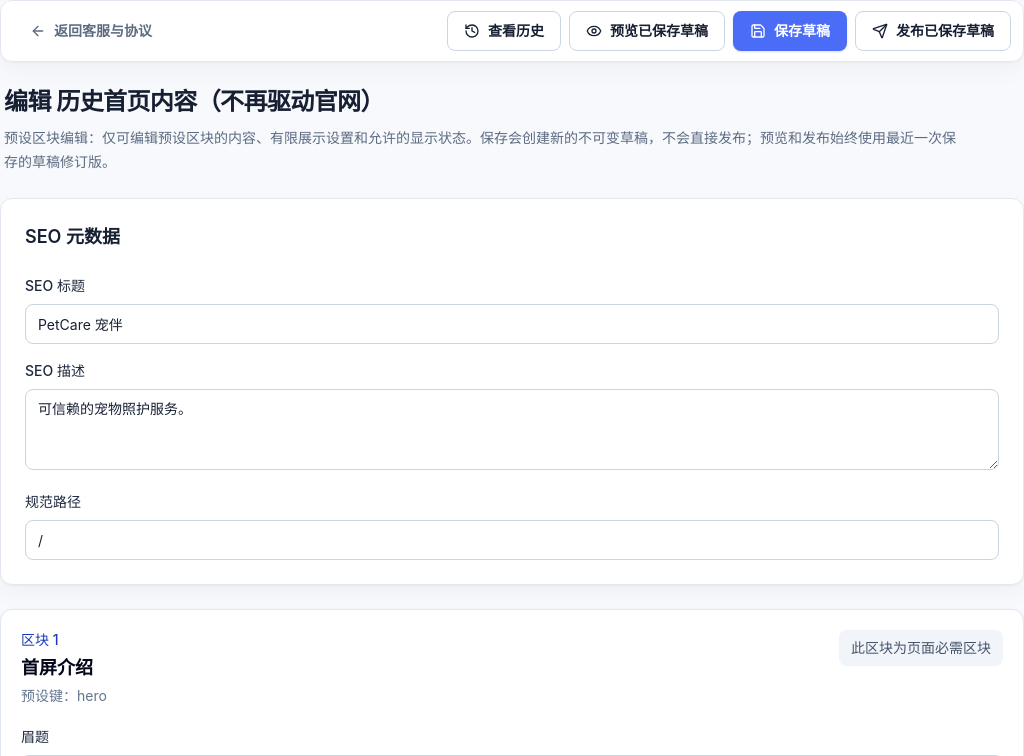
Test: WebsiteContentEdit › publishes a saved revision, reports its business version, and invalidates affected content queries
Click the button with aria-label "publish-saved-draft": {"x": 933, "y": 31} [855, 11, 1011, 51]
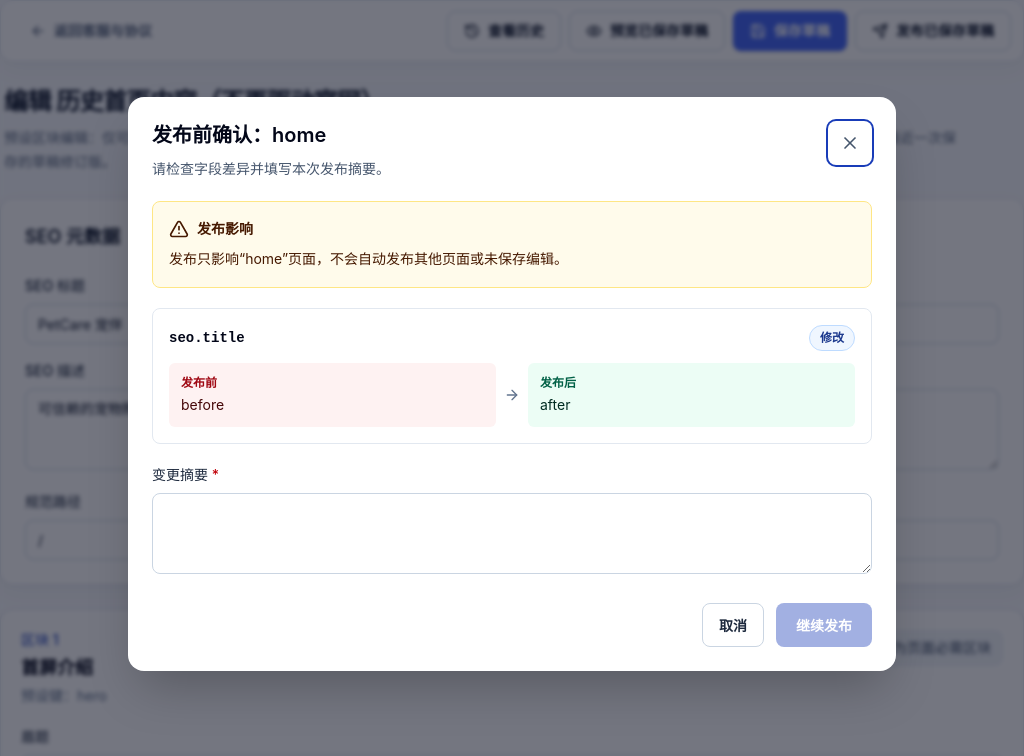
Expected: the text "before" is shown, [181, 396, 224, 413]
In the text box labelled "变更摘要": {"x": 512, "y": 534} [152, 493, 872, 574], type "发布首页更新"
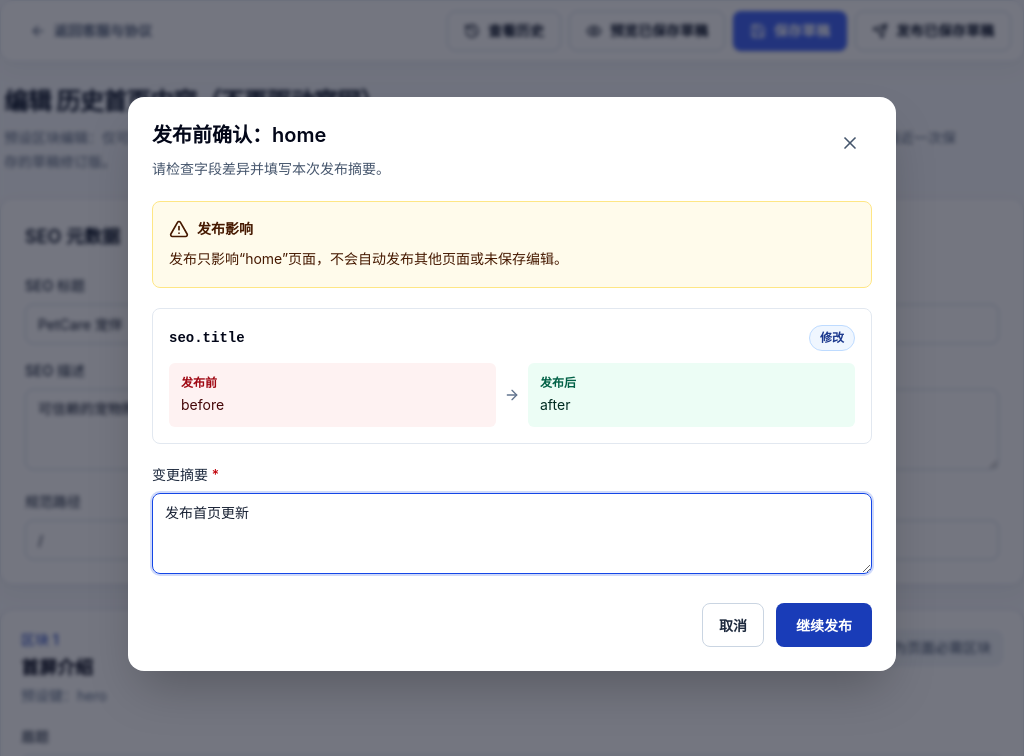
Click the button "继续发布": {"x": 824, "y": 625} [776, 603, 872, 647]
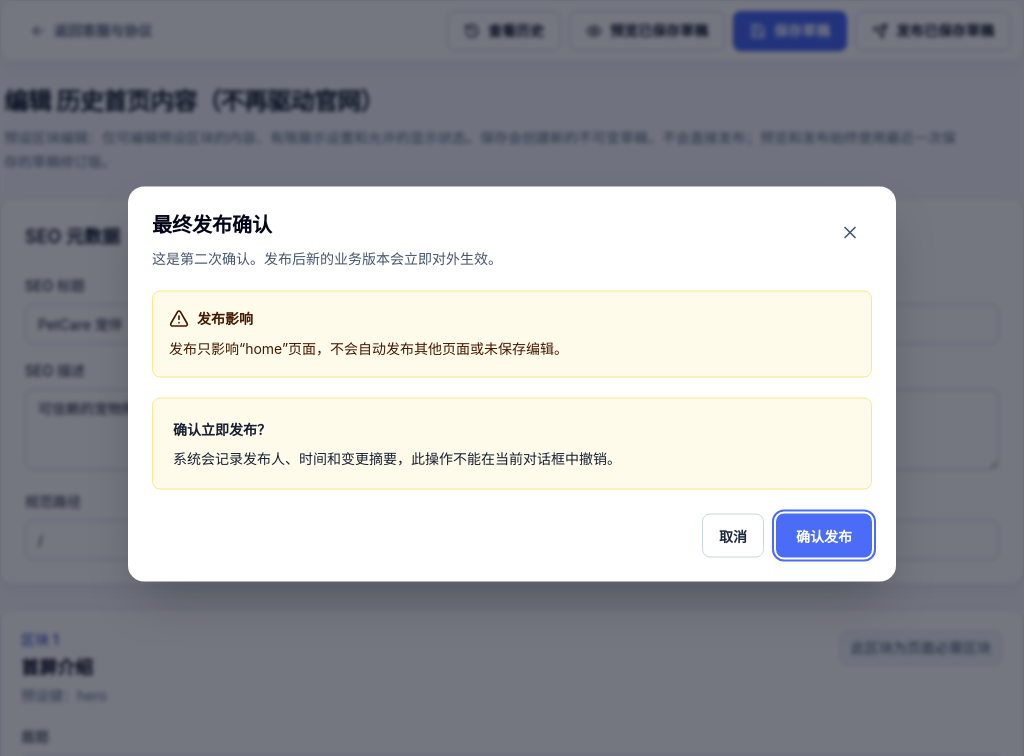
Click the button "确认发布": {"x": 824, "y": 536} [776, 514, 872, 558]
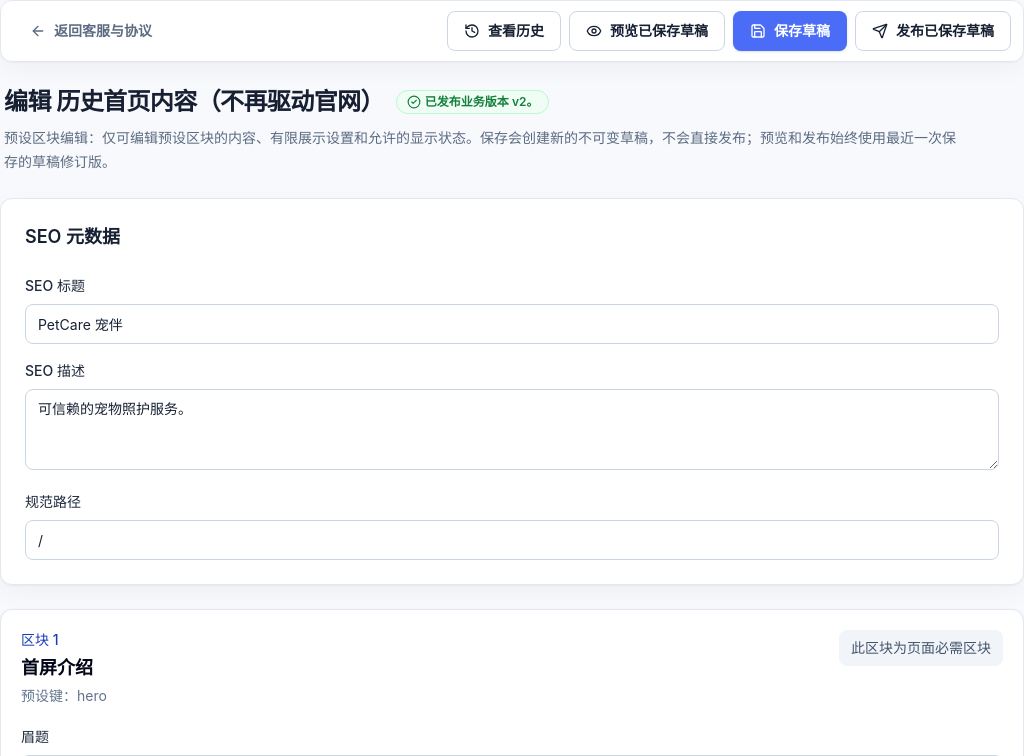
Expected: the text "已发布业务版本 v2。" is shown, [396, 90, 549, 114]
